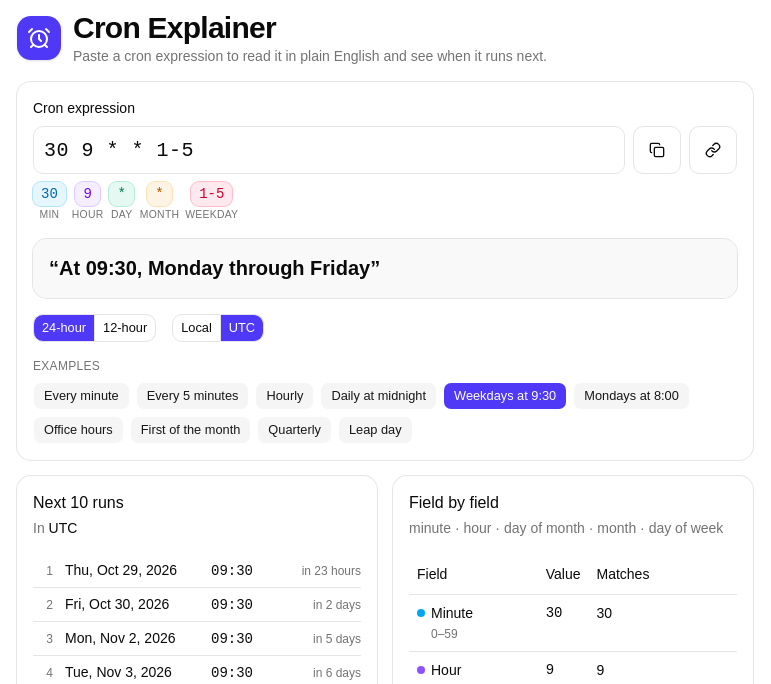
Test: explaining › explains whatever you type, field by field
The width and height of the screenshot is (771, 684).
Type "*/15 9-17 * JAN,JUL MON-FRI" into the field labelled "Cron expression" at [329, 150], box [33,126,625,174]
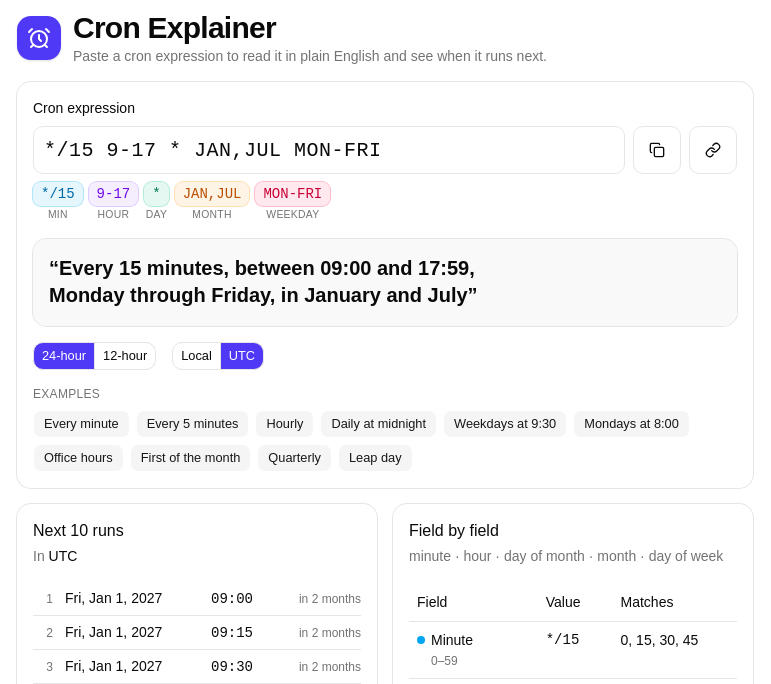
Check: the text with test id "explanation" shows "“Every 15 minutes, between 09:00 and 17:59, Monday through Friday, in January and July”", box [49,257,478,306]
